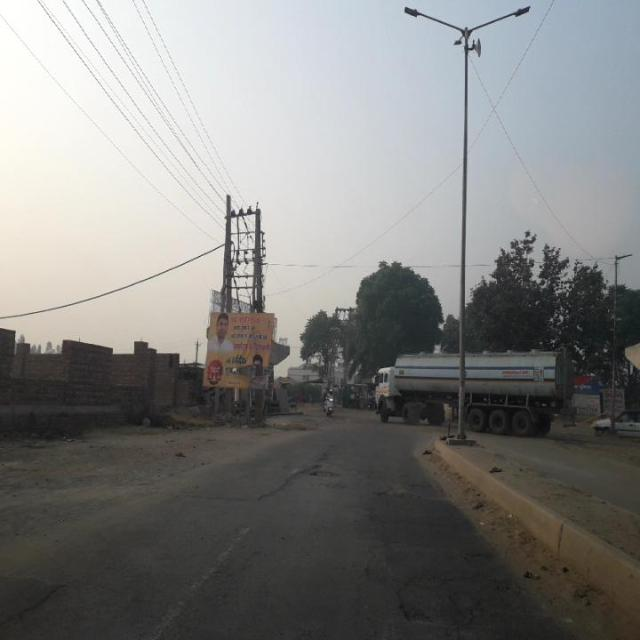D40: (395, 566, 457, 628), (374, 483, 420, 497), (304, 464, 340, 479)
D44: (154, 524, 245, 630)
